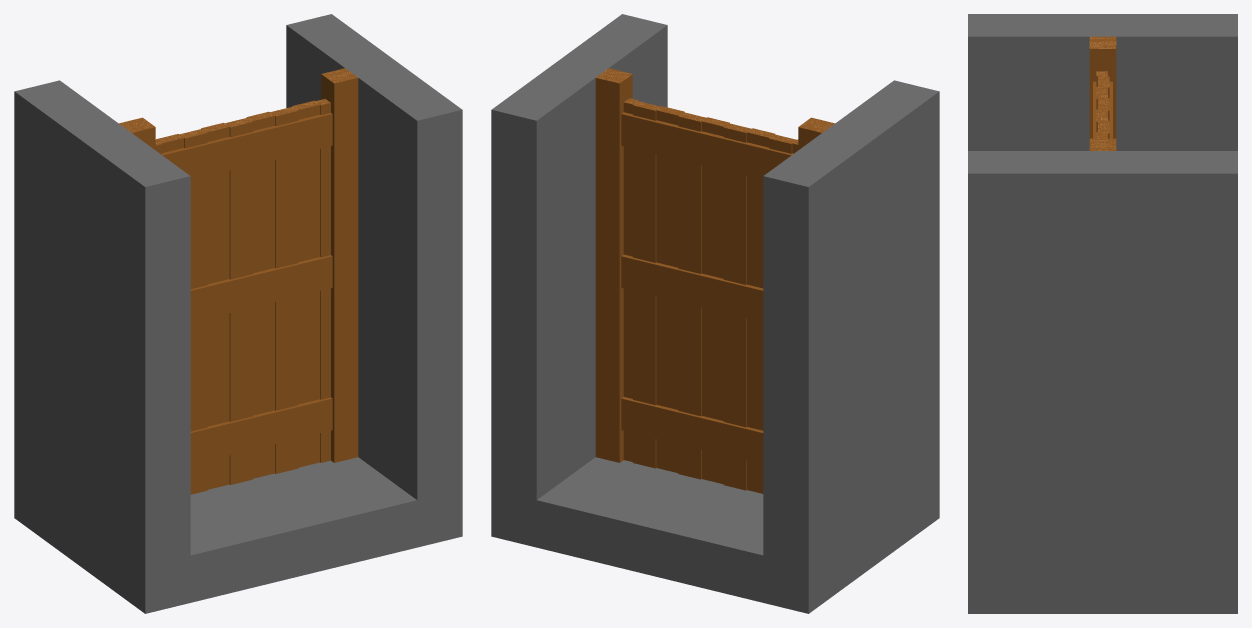
Rendered from Dungeon_Tile_1x1_2_Wall_Gate_Timber_01.fbx.
3 views of the same model, side by side, from view 1: azimuth 30°, elevation 25°; view 2: azimuth 150°, elevation 25°; view 3: azimuth 270°, elevation 25° (orthographic). The views are drawn at different scales.
Visible parts, largest first — view 1: Model; view 2: Model; view 3: Model.
Boxes of the visible parts, x1=… form: Model: x1=14, y1=14, x2=462, y2=613; Model: x1=491, y1=14, x2=939, y2=613; Model: x1=968, y1=14, x2=1237, y2=613.
Size of the model in its own units: 208 by 267 by 149.
